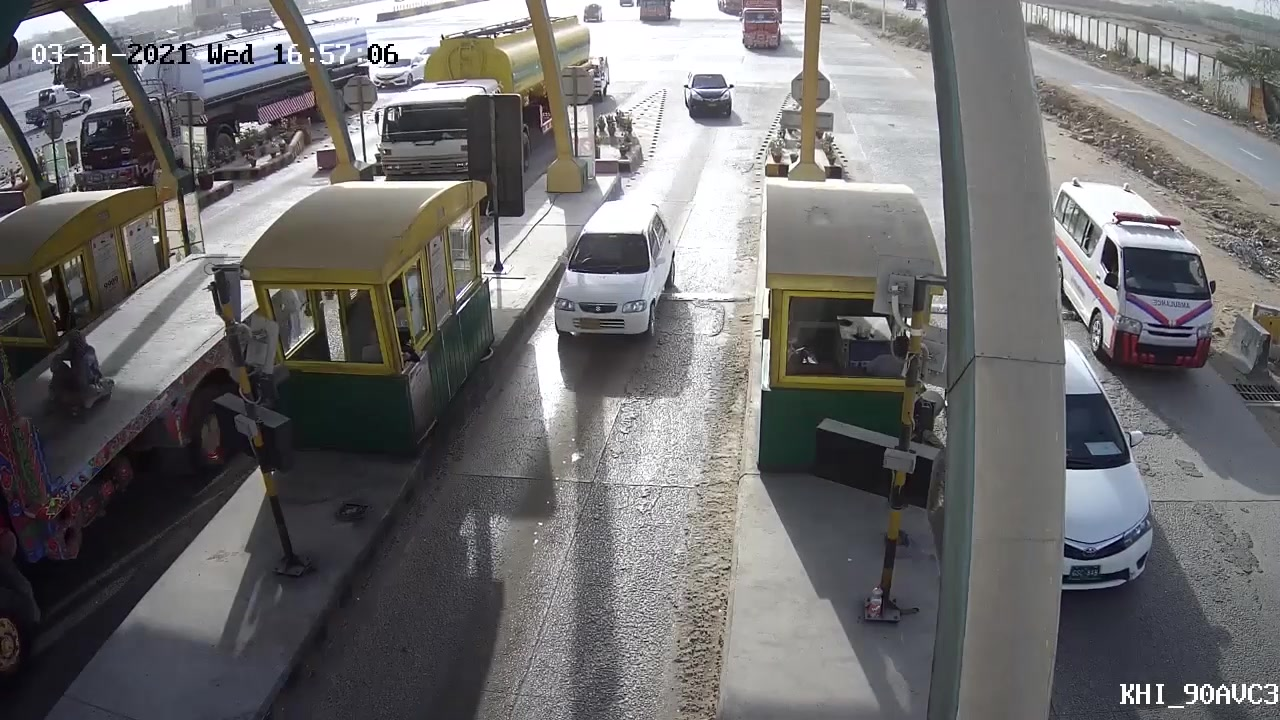F1: (531, 198, 689, 343)
